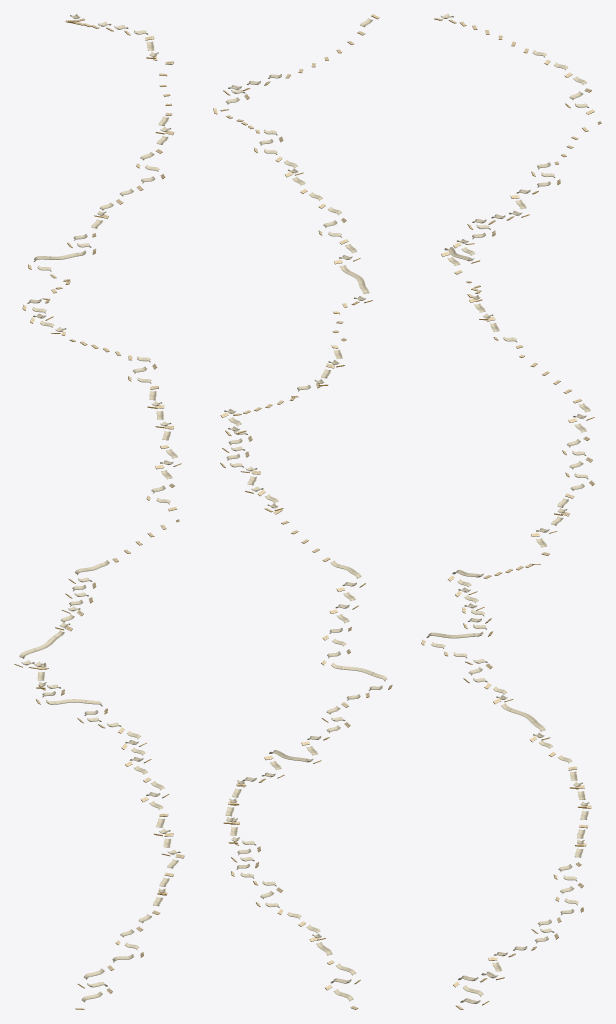
Rendered from C-route-v027-17.glb.
3 views of the same model, side by side, from view 1: azimuth 30°, elevation 25°; view 2: azimuth 150°, elevation 25°; view 3: azimuth 330°, elevation 25° (orthographic).
Size of the model in its own units: 0.5234 by 2.95 by 0.2924.
Materials: 5 (1 with a texture image).
